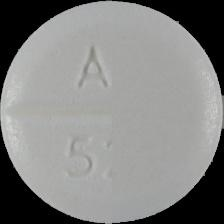64205-521: (0, 0, 224, 224)
